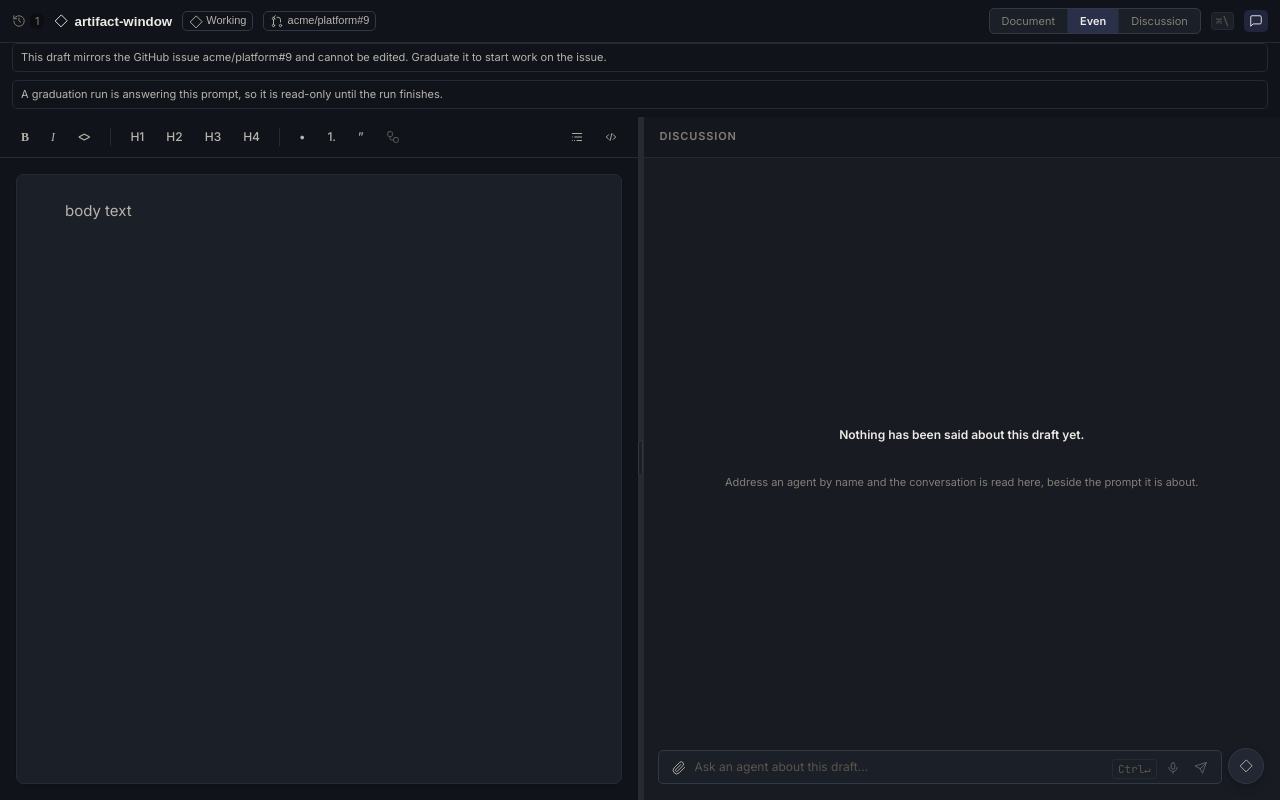
New Artifact workspace — a GitHub-shadow draft › NAW-FR-AXFQ: Graduate follows NAW-FR-44 — a run holding the draft disables it
Expected: the text with test id "draft-github-shadow-banner" is shown, x1=12 y1=43 x2=1268 y2=72
Click the button named "Draft actions": (1246, 766) x1=1228 y1=748 x2=1264 y2=784
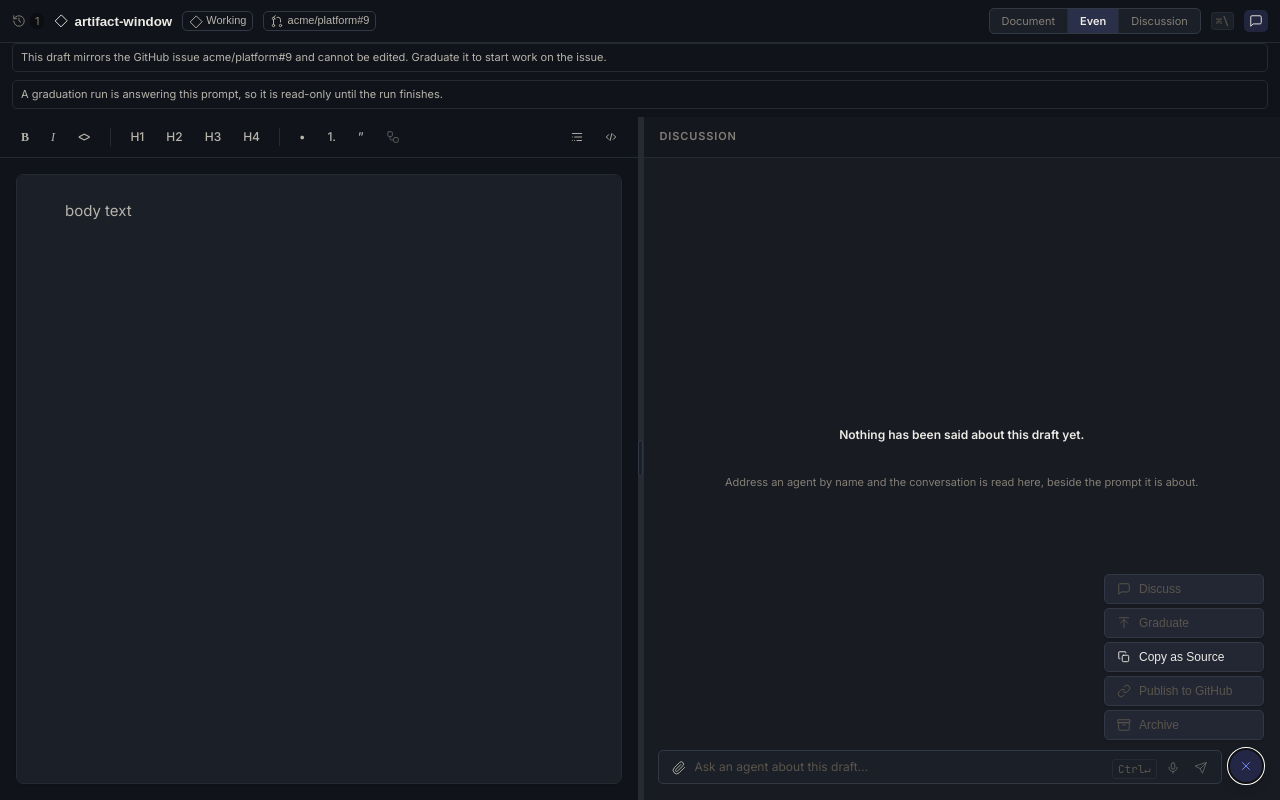
Now the menu item "Graduate" is disabled, box x1=1104 y1=608 x2=1264 y2=638
